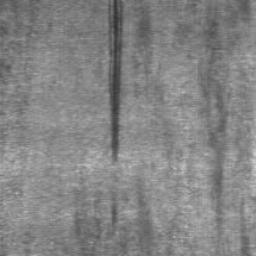Scratches: (107, 0, 123, 161)
